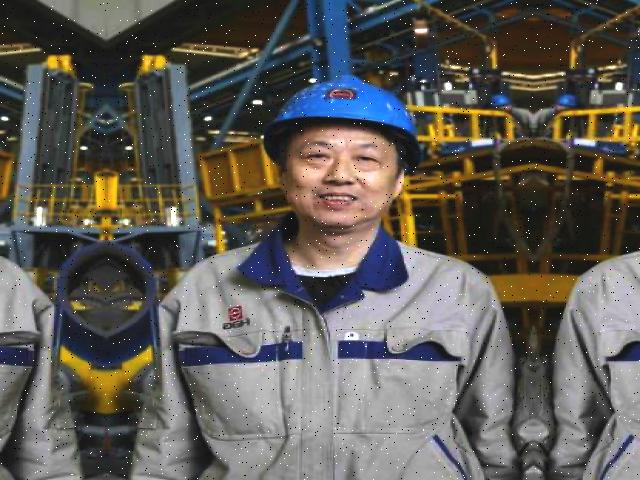Helmet: (262, 68, 425, 156)
